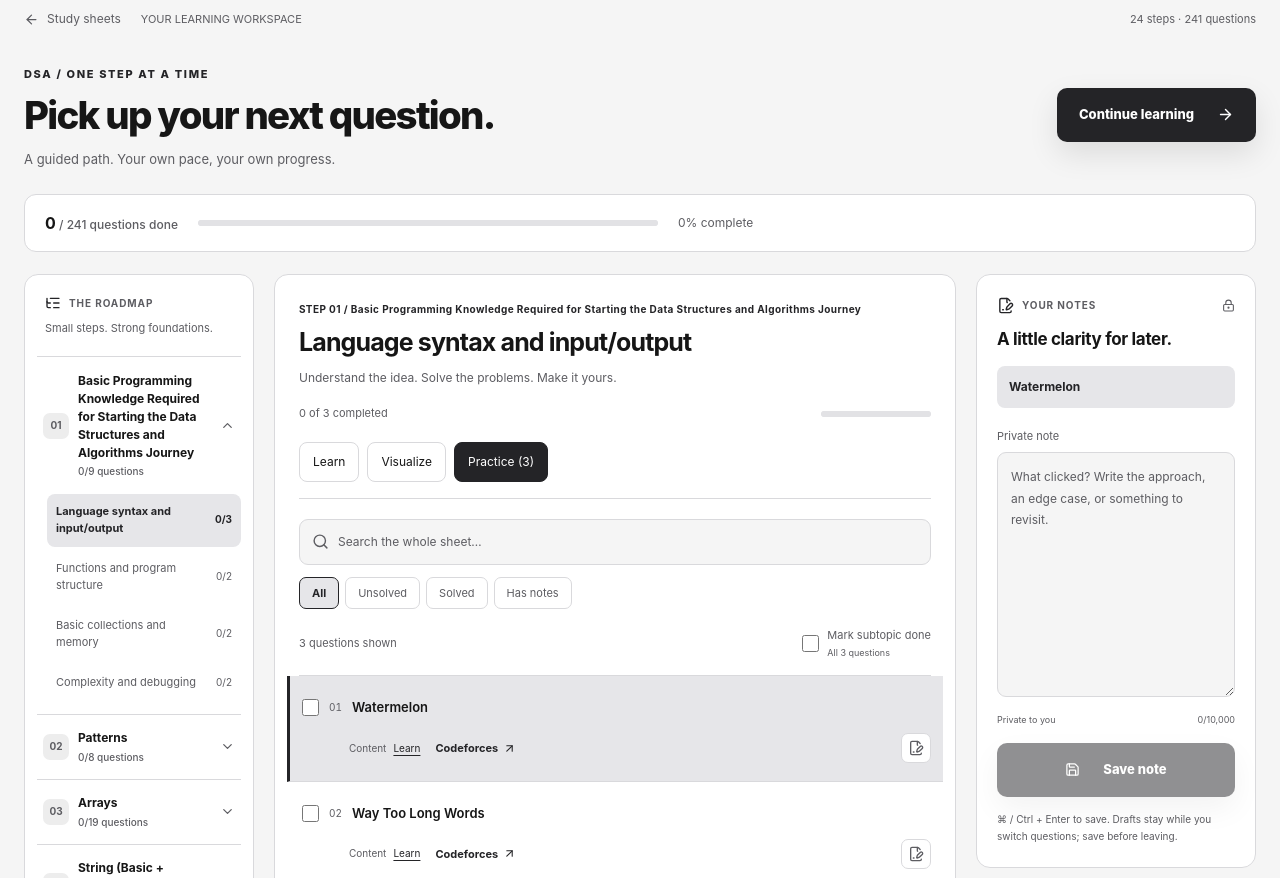
Scenario: Learn → visualize → practice › preserves a private note draft across Learn and Practice without saving it implicitly
Type "Remember parity." into the text box labelled "Private note". click: (1116, 575)
box: [997, 452, 1235, 697]
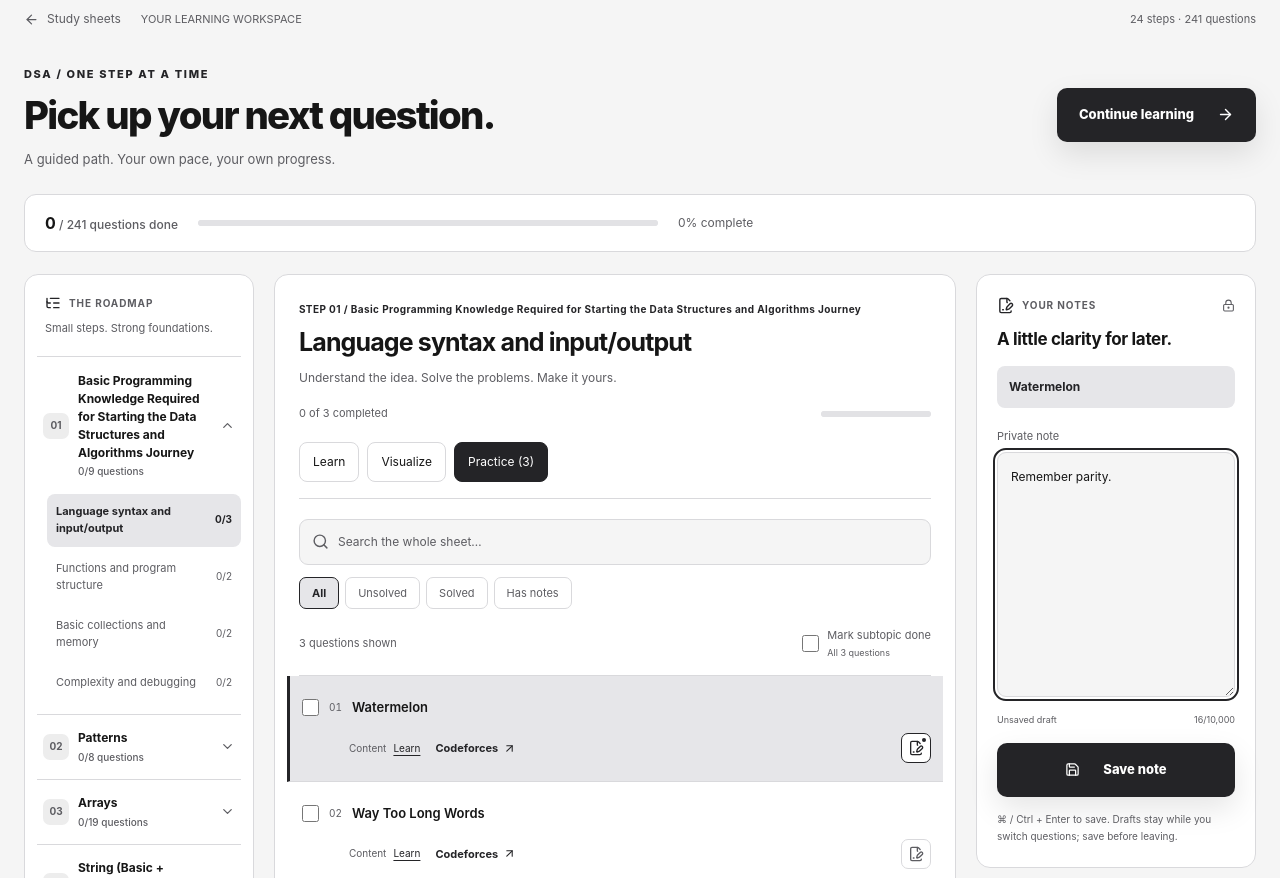
Click the 1st button "Learn". click: (329, 462)
box: [299, 442, 359, 482]
(page scrolled)
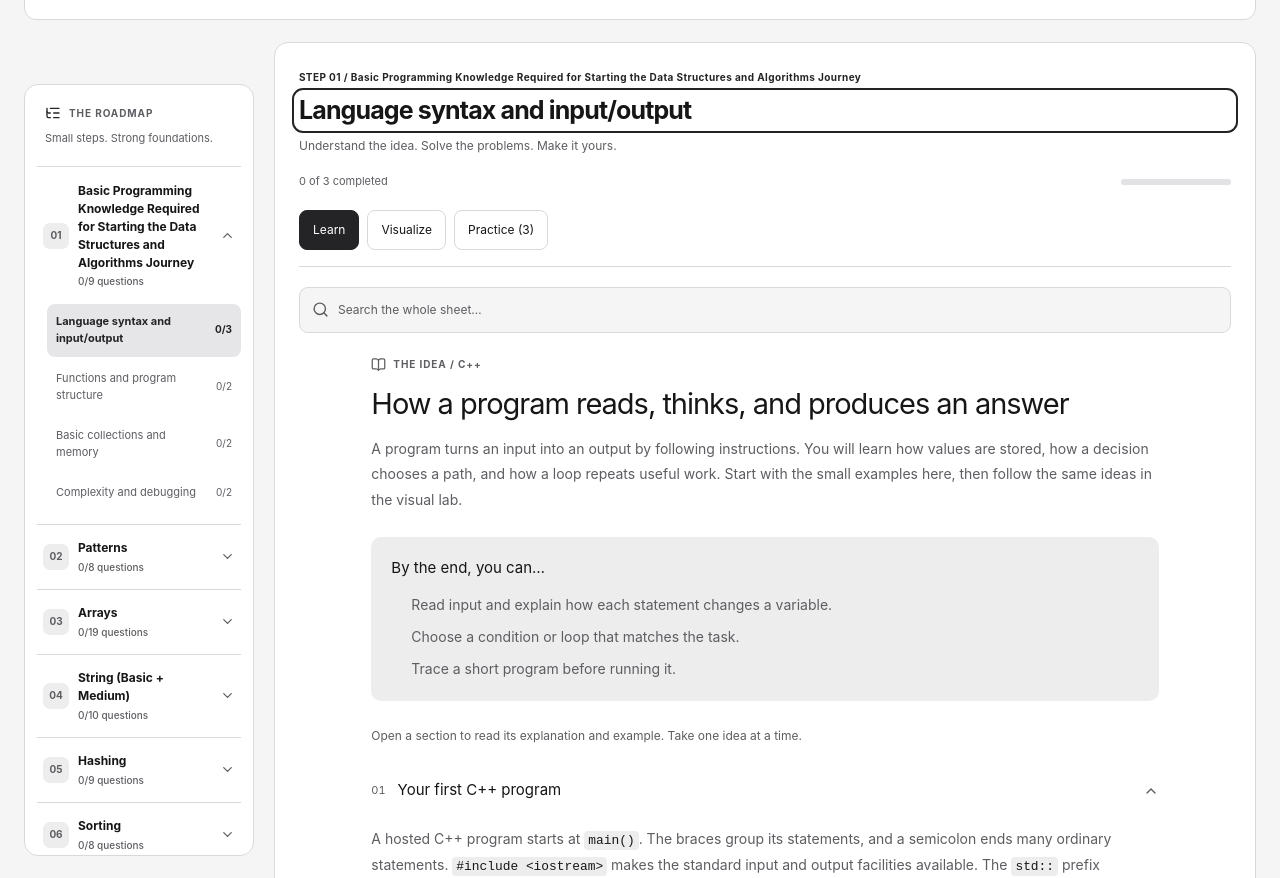
Click the button "Practice (3)". click: (501, 230)
box: [454, 210, 548, 250]
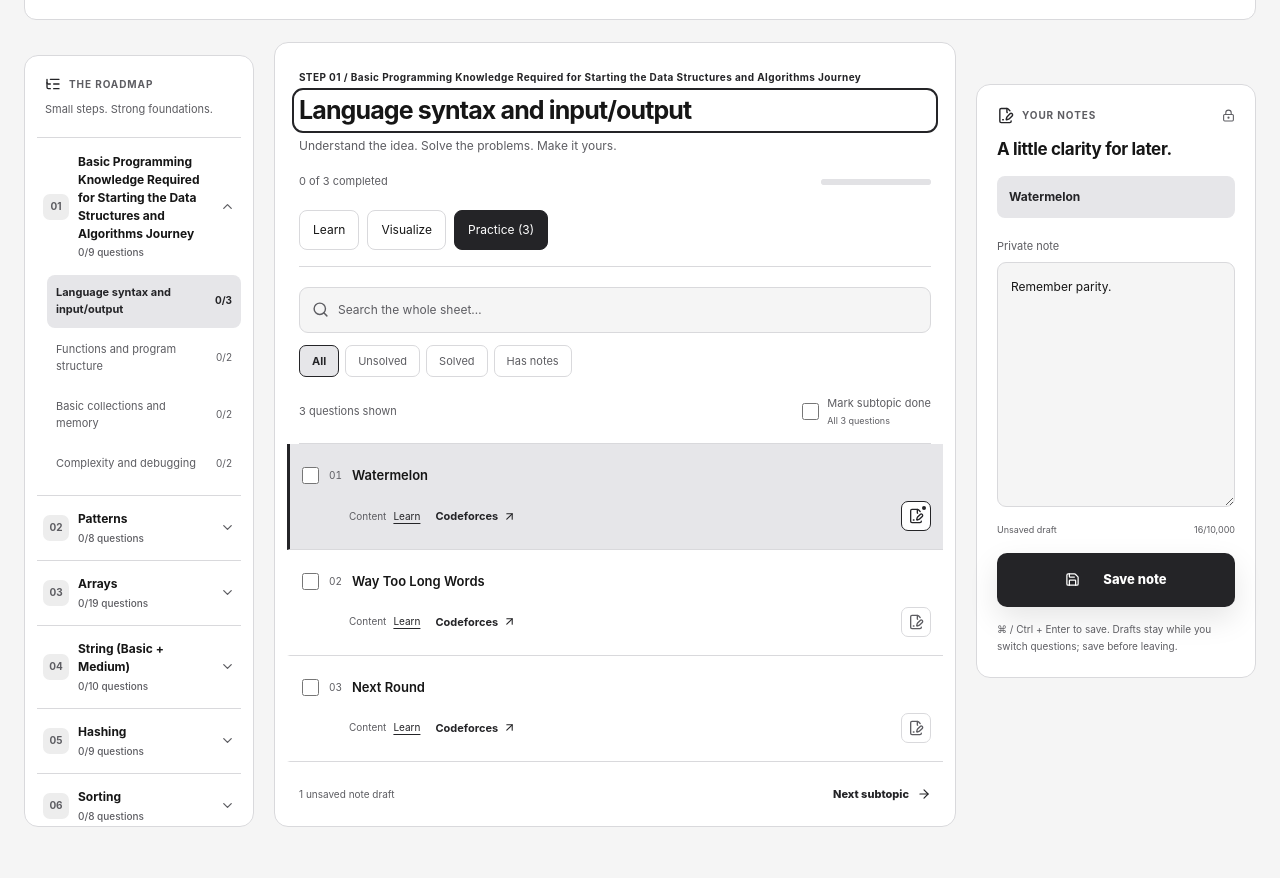
Result: the text box labelled "Private note" holds "Remember parity." at [997, 262, 1235, 507]
